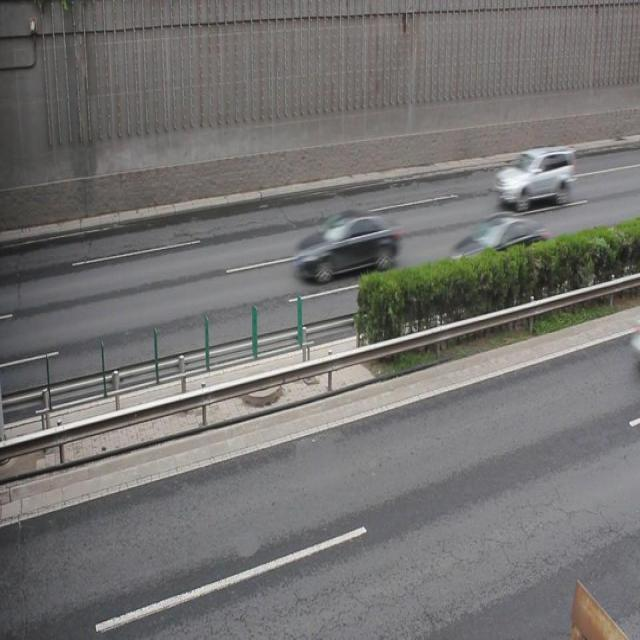car: (295, 214, 400, 280), (443, 217, 542, 277), (494, 144, 572, 208)
